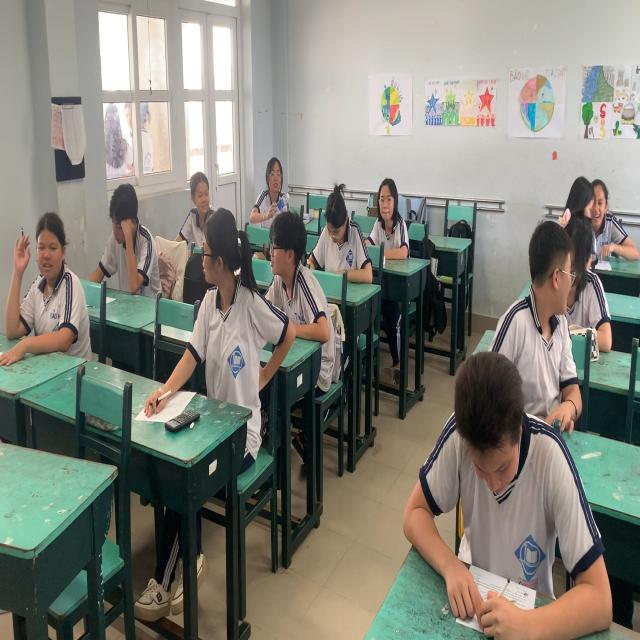cheating: (508, 218, 586, 434), (198, 205, 267, 382), (564, 168, 620, 248)
not_cheating: (430, 349, 582, 603), (15, 208, 86, 346), (263, 207, 319, 336), (97, 178, 156, 294), (316, 172, 364, 283), (247, 148, 298, 231), (361, 174, 406, 254), (183, 168, 213, 217)
